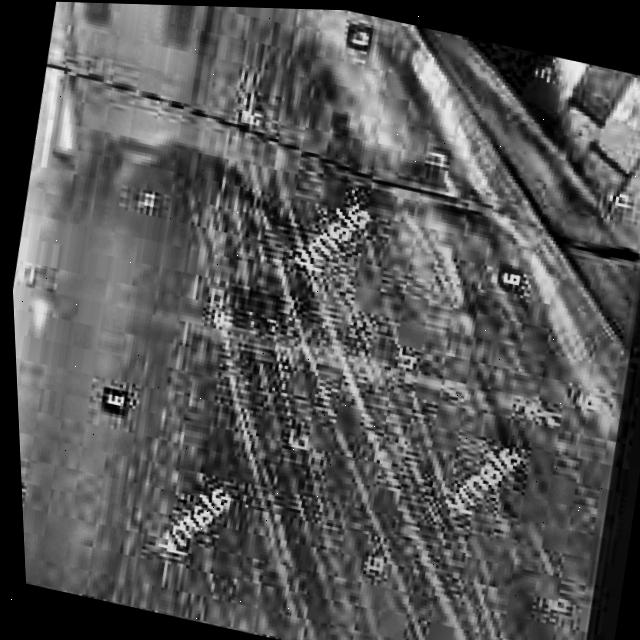door_scratch: (143, 174, 561, 640)
